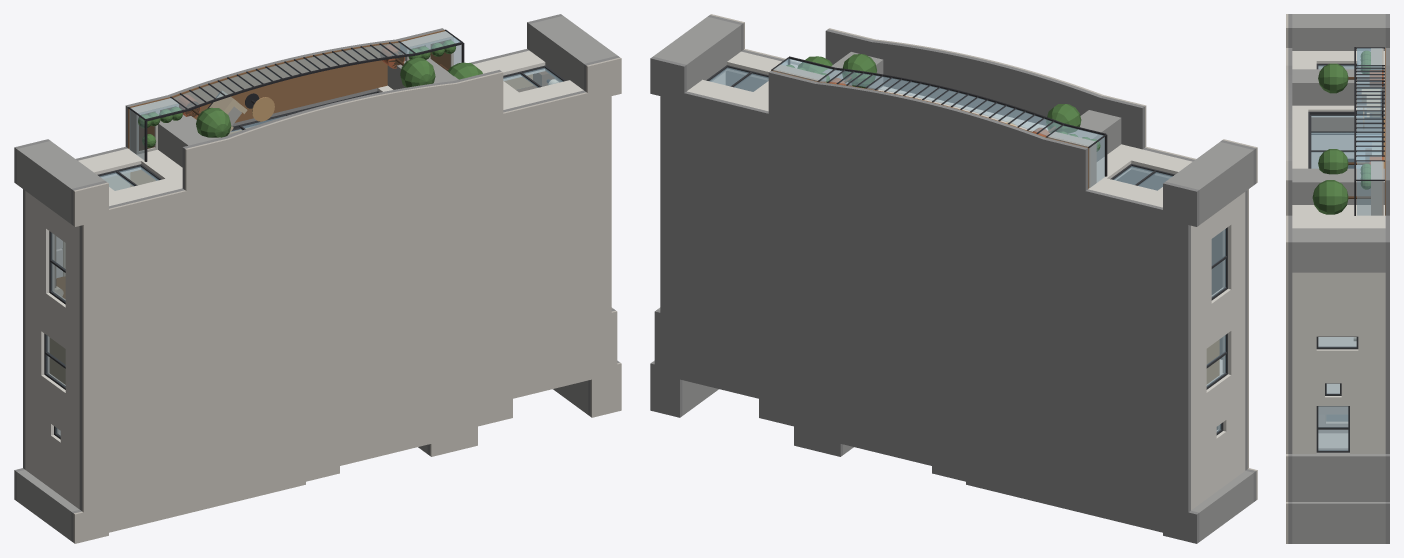
File: DexinTaiji_B_3D_m.obj
The picture shows the model from 3 angles, left to right: view 1: azimuth 30°, elevation 25°; view 2: azimuth 150°, elevation 25°; view 3: azimuth 270°, elevation 25°; orthographic projection. The views are drawn at different scales.
Visible parts, largest first — view 1: A-SLAB-UP__上層樓板_(版底_3_270_上層FL_3_500), A-WALL__外牆_EW1, A-FLOR__地坪-景觀陽台, A-RAIL__景觀陽台玻璃欄杆, A-COLS__結構柱_C1, A-COLS__結構柱_C4, A-FLOR__本層結構樓板, A-WALL__外牆_EN1, A-WALL__外牆_EN3, A-COLS__結構柱_C5, A-COLS__結構柱_C2, A-PLNT__陽台喬木-西 (+6 smaller); view 2: A-FLOR__本層結構樓板, A-SLAB-UP__上層樓板_(版底_3_270_上層FL_3_500), A-WALL__外牆_EW1, A-RAIL__景觀陽台玻璃欄杆, A-COLS__結構柱_C1, A-COLS__結構柱_C4, A-WALL__外牆_EN1, A-WALL__外牆_EN3, A-COLS__結構柱_C5, A-COLS__結構柱_C2, A-GLAZ__W3_主臥西窗, A-GLAZ__W2_次臥一北窗 (+5 smaller); view 3: A-WALL__外牆_EE1, A-RAIL__景觀陽台玻璃欄杆, A-COLS__結構柱_C9, A-COLS__結構柱_C4, A-COLS__結構柱_C8, A-SLAB-UP__上層樓板_(版底_3_270_上層FL_3_500), A-COLS__結構柱_C1, A-GLAZ__D12_客廳落地拉門, A-FLOR__本層結構樓板, A-COLS__結構柱_C2, A-WALL__外牆_EN3, A-COLS__結構柱_C3 (+21 smaller).
Boxes of the visible parts, x1,y1,x2,y2 form: A-SLAB-UP__上層樓板_(版底_3_270_上層FL_3_500): (71,55,621,543); A-WALL__外牆_EW1: (25,191,79,509); A-FLOR__地坪-景觀陽台: (128,30,444,148); A-RAIL__景觀陽台玻璃欄杆: (128,29,464,161); A-COLS__結構柱_C1: (17,141,104,223); A-COLS__結構柱_C4: (529,16,617,89); A-FLOR__本層結構樓板: (14,14,562,500); A-WALL__外牆_EN1: (78,148,182,206); A-WALL__外牆_EN3: (473,50,583,109); A-COLS__結構柱_C5: (17,470,79,540); A-COLS__結構柱_C2: (158,115,220,167); A-PLNT__陽台喬木-西: (177,94,231,137); A-FLOR__本層結構樓板: (650,56,1199,543); A-SLAB-UP__上層樓板_(版底_3_270_上層FL_3_500): (707,14,1257,501); A-WALL__外牆_EW1: (1191,192,1245,510); A-RAIL__景觀陽台玻璃欄杆: (771,56,1107,187); A-COLS__結構柱_C1: (1166,142,1253,224); A-COLS__結構柱_C4: (653,17,740,90); A-WALL__外牆_EN1: (1088,144,1192,207); A-WALL__外牆_EN3: (687,51,797,111); A-COLS__結構柱_C5: (1191,471,1253,541); A-COLS__結構柱_C2: (1068,110,1121,161); A-GLAZ__W3_主臥西窗: (1211,227,1227,300); A-GLAZ__W2_次臥一北窗: (706,65,768,91); A-WALL__外牆_EE1: (1292,272,1385,453); A-RAIL__景觀陽台玻璃欄杆: (1354,47,1384,215); A-COLS__結構柱_C9: (1292,452,1385,501); A-COLS__結構柱_C4: (1292,228,1385,272); A-COLS__結構柱_C8: (1292,502,1385,543); A-SLAB-UP__上層樓板_(版底_3_270_上層FL_3_500): (1286,14,1292,543); A-COLS__結構柱_C1: (1292,14,1385,50); A-GLAZ__D12_客廳落地拉門: (1308,111,1383,168); A-FLOR__本層結構樓板: (1385,14,1389,543); A-COLS__結構柱_C2: (1292,69,1384,105); A-WALL__外牆_EN3: (1292,205,1385,228); A-COLS__結構柱_C3: (1292,168,1384,204).
Bounding box in the file's own units: 19.4 × 12.73 × 3.73.
